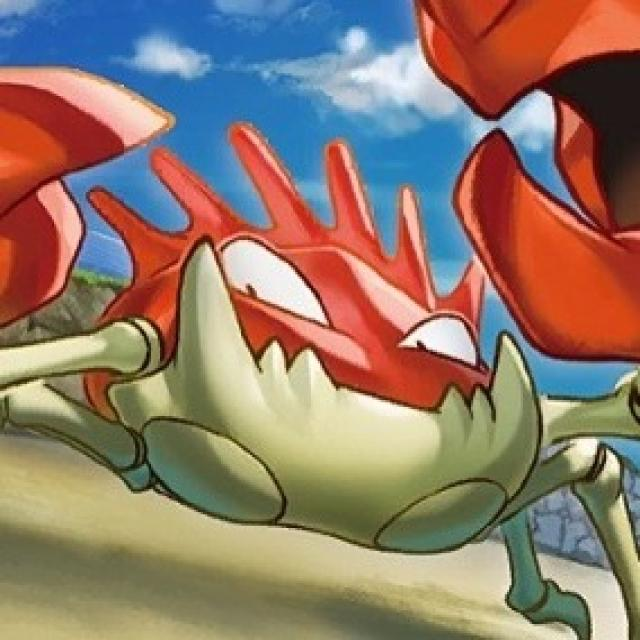Kingler: (14, 0, 640, 636)
